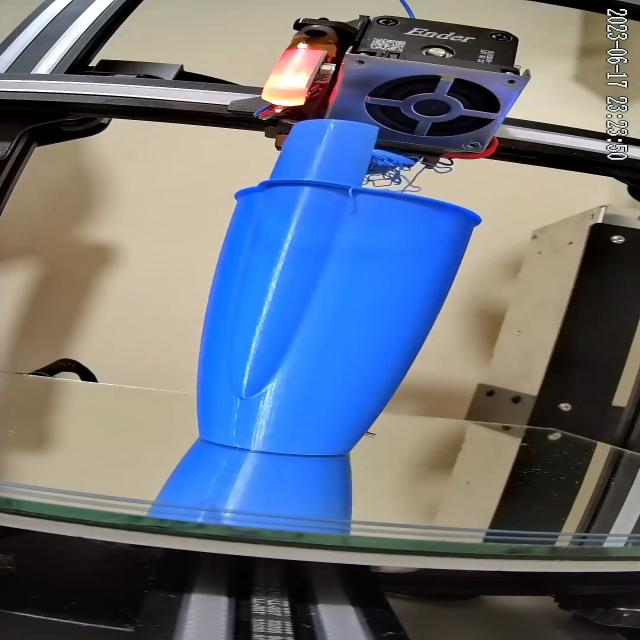spaghetti: (367, 144, 458, 197)
